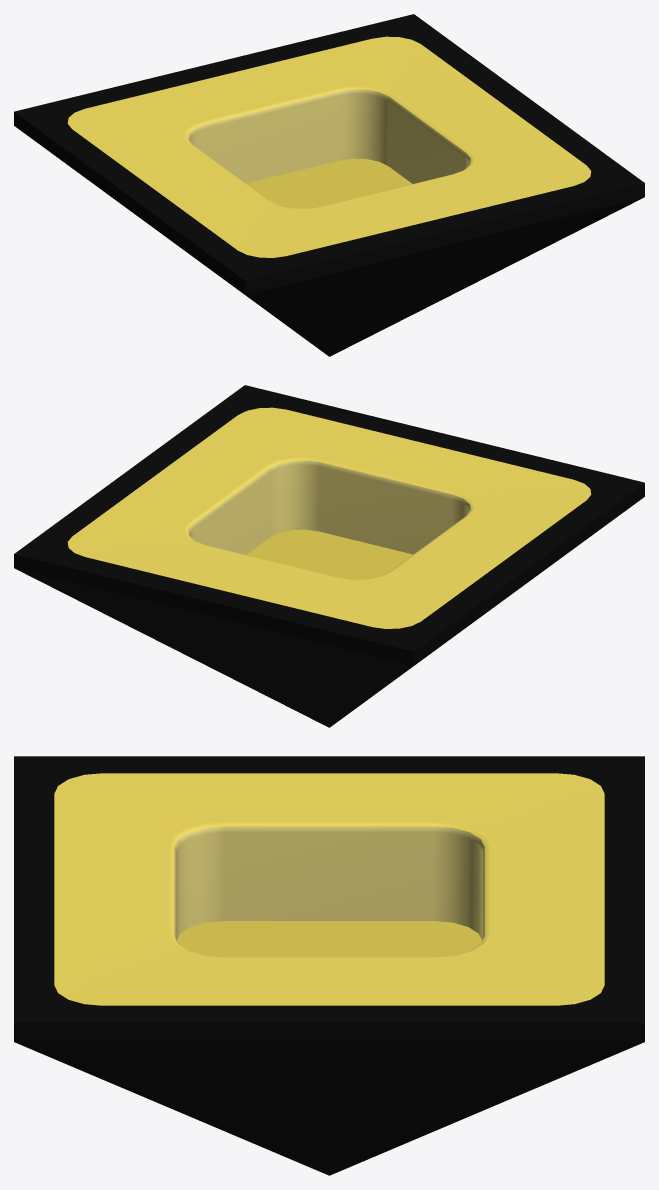
The model's file is Cell Yellow.fbx.
3 renders of one model, top to bottom at view 1: azimuth 30°, elevation 25°; view 2: azimuth 150°, elevation 25°; view 3: azimuth 270°, elevation 25°, orthographic. The views are drawn at different scales.
Visible parts, largest first — view 1: Cell_Yellow; view 2: Cell_Yellow; view 3: Cell_Yellow.
Part boxes in pixels (x1,y1,x2,y2): Cell_Yellow: (14, 14, 644, 356); Cell_Yellow: (14, 385, 644, 727); Cell_Yellow: (14, 756, 644, 1175).
Size of the model in its own units: 100 by 50.06 by 100.
